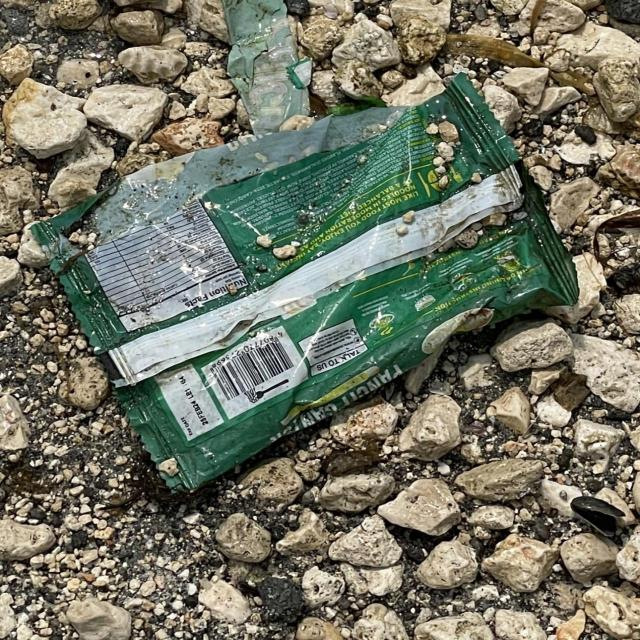plastic_waste: (28, 71, 583, 497)
